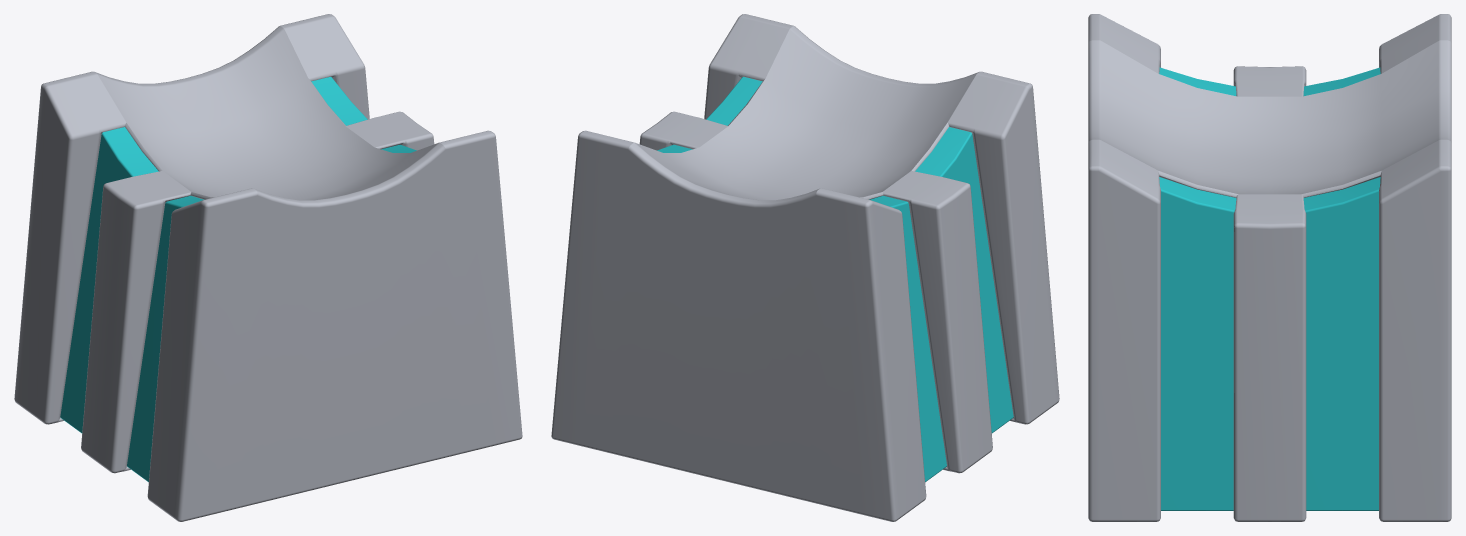
Rendered from orbBase_A.fbx.
The picture shows the model from 3 angles, left to right: view 1: azimuth 30°, elevation 25°; view 2: azimuth 150°, elevation 25°; view 3: azimuth 270°, elevation 25°; orthographic projection. The views are drawn at different scales.
Parts seen in each view (by area): view 1: orbBase_A_LOD0; view 2: orbBase_A_LOD0; view 3: orbBase_A_LOD0.
Boxes of the visible parts, <box> form: orbBase_A_LOD0: <box>14,14,522,521</box>; orbBase_A_LOD0: <box>551,14,1059,521</box>; orbBase_A_LOD0: <box>1088,14,1451,521</box>.
Size of what is drawn, in the model's own units: 299 by 259 by 250.
